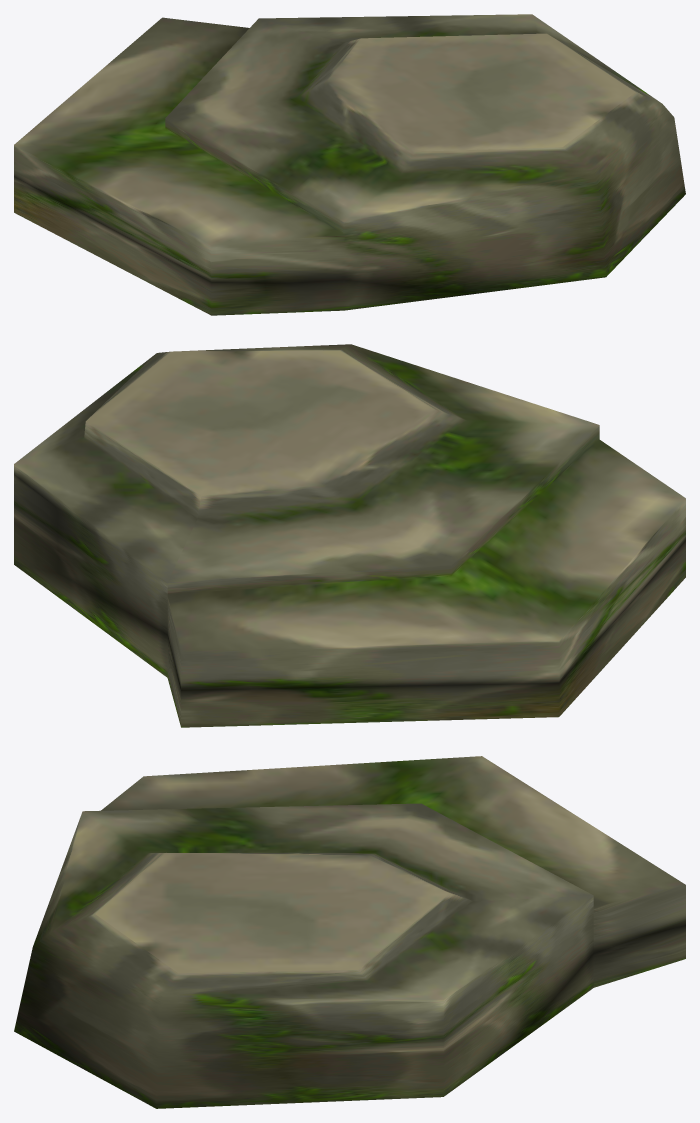
File: RockFormation_4_5 (25).fbx
3 views of the same model, one above another, from view 1: azimuth 30°, elevation 25°; view 2: azimuth 150°, elevation 25°; view 3: azimuth 270°, elevation 25° (orthographic). The views are drawn at different scales.
Visible parts, largest first — view 1: RockFormation_4_5 (25); view 2: RockFormation_4_5 (25); view 3: RockFormation_4_5 (25).
Boxes of the visible parts, left/top/right/bottom form: RockFormation_4_5 (25): left=14, top=14, right=685, bottom=315; RockFormation_4_5 (25): left=14, top=344, right=685, bottom=727; RockFormation_4_5 (25): left=14, top=756, right=685, bottom=1108.
Bounding box in the file's own units: 1216 × 232 × 1239.
